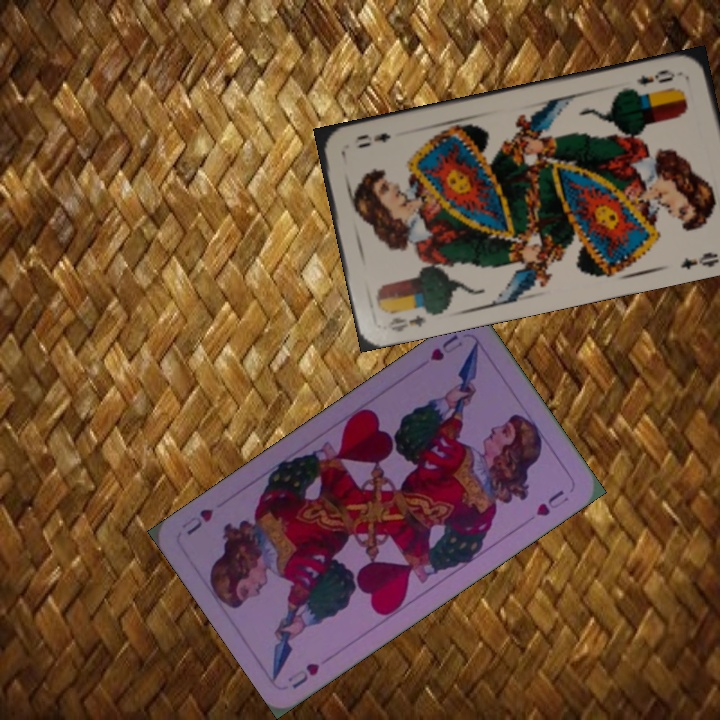EO: (633, 65, 684, 89), (383, 311, 429, 335)
HU: (426, 330, 465, 364), (283, 658, 322, 692)
